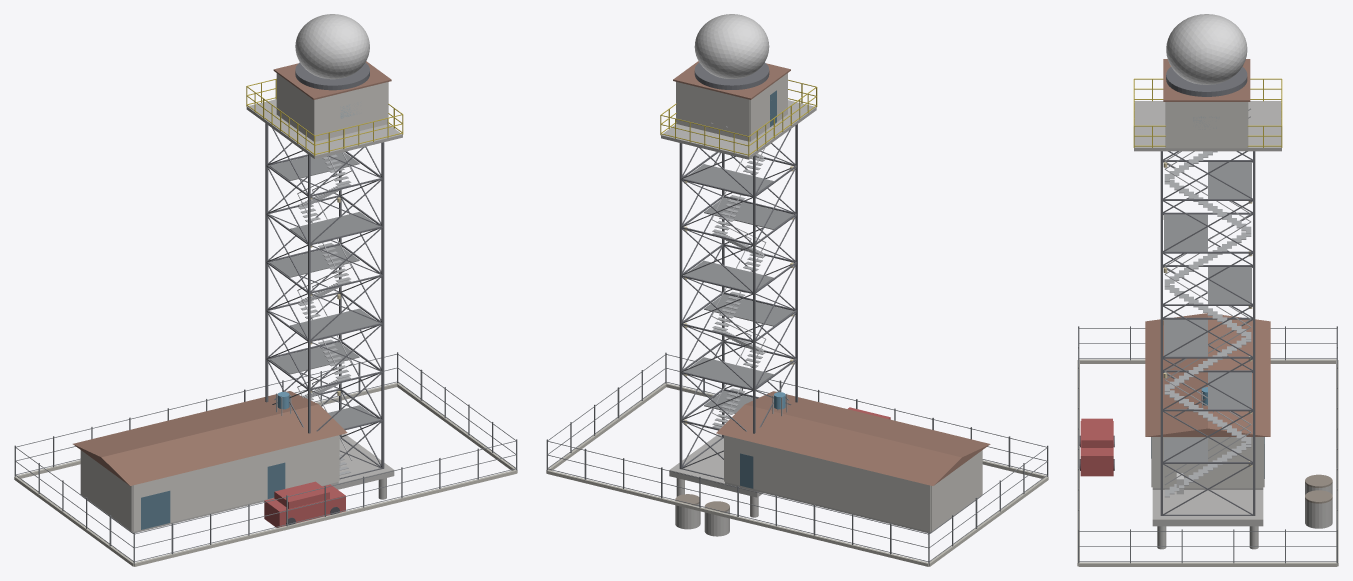
Rendered from torre_radar_v3.glb.
3 views of the same model, side by side, from view 1: azimuth 30°, elevation 25°; view 2: azimuth 150°, elevation 25°; view 3: azimuth 270°, elevation 25° (orthographic). The views are drawn at different scales.
Visible parts, largest first — view 1: 08_edif_terrea__edif_telhado_2aguas, 08_edif_terrea__edif_parede_y-1, 06_radome__radome, 05_plataforma__cabine_parede_y-1, 05_plataforma__plataforma_laje_6x8, 08_edif_terrea__edif_parede_x-1, 09_mureta_gradil__mureta_sul, 01_fundacao__fundacao_bloco, 05_plataforma__cabine_parede_x-1, 11_carro__carro_corpo, 03_patamares__patamar_2, 03_patamares__patamar_4 (+14 smaller); view 2: 08_edif_terrea__edif_telhado_2aguas, 08_edif_terrea__edif_parede_y+1, 06_radome__radome, 05_plataforma__cabine_parede_y+1, 05_plataforma__plataforma_laje_6x8, 08_edif_terrea__edif_parede_x-1, 01_fundacao__fundacao_bloco, 09_mureta_gradil__mureta_norte, 05_plataforma__cabine_parede_x-1, 03_patamares__patamar_3, 03_patamares__patamar_5, 03_patamares__patamar_1 (+9 smaller); view 3: 08_edif_terrea__edif_telhado_2aguas, 06_radome__radome, 05_plataforma__cabine_parede_x+1, 01_fundacao__fundacao_bloco, 05_plataforma__plataforma_laje_6x8, 08_edif_terrea__edif_parede_x+1, 03_patamares__patamar_3, 03_patamares__patamar_2, 03_patamares__patamar_1, 03_patamares__patamar_4, 03_patamares__patamar_5, 09_mureta_gradil__mureta_leste (+11 smaller).
Part boxes in pixels (x1,y1,x2,y2): 08_edif_terrea__edif_telhado_2aguas: [73, 391, 347, 485]; 08_edif_terrea__edif_parede_y-1: [132, 435, 338, 531]; 06_radome__radome: [295, 14, 369, 79]; 05_plataforma__cabine_parede_y-1: [314, 82, 388, 141]; 05_plataforma__plataforma_laje_6x8: [246, 99, 402, 158]; 08_edif_terrea__edif_parede_x-1: [80, 450, 132, 531]; 09_mureta_gradil__mureta_sul: [134, 469, 517, 566]; 01_fundacao__fundacao_bloco: [332, 434, 394, 489]; 05_plataforma__cabine_parede_x-1: [276, 73, 314, 141]; 11_carro__carro_corpo: [264, 484, 345, 527]; 03_patamares__patamar_2: [290, 308, 379, 339]; 03_patamares__patamar_4: [290, 211, 379, 242]; 08_edif_terrea__edif_telhado_2aguas: [716, 391, 990, 485]; 08_edif_terrea__edif_parede_y+1: [724, 435, 930, 531]; 06_radome__radome: [694, 14, 769, 78]; 05_plataforma__cabine_parede_y+1: [676, 82, 749, 141]; 05_plataforma__plataforma_laje_6x8: [661, 100, 816, 159]; 08_edif_terrea__edif_parede_x-1: [930, 450, 982, 531]; 01_fundacao__fundacao_bloco: [669, 434, 763, 497]; 09_mureta_gradil__mureta_norte: [546, 470, 928, 566]; 05_plataforma__cabine_parede_x-1: [750, 73, 787, 141]; 03_patamares__patamar_3: [684, 260, 773, 291]; 03_patamares__patamar_5: [684, 164, 773, 194]; 03_patamares__patamar_1: [684, 357, 773, 388]; 08_edif_terrea__edif_telhado_2aguas: [1145, 313, 1270, 436]; 06_radome__radome: [1166, 14, 1247, 84]; 05_plataforma__cabine_parede_x+1: [1166, 102, 1247, 148]; 01_fundacao__fundacao_bloco: [1152, 490, 1263, 526]; 05_plataforma__plataforma_laje_6x8: [1134, 101, 1281, 151]; 08_edif_terrea__edif_parede_x+1: [1152, 437, 1263, 487]; 03_patamares__patamar_3: [1208, 267, 1251, 304]; 03_patamares__patamar_2: [1164, 319, 1207, 356]; 03_patamares__patamar_1: [1208, 372, 1251, 409]; 03_patamares__patamar_4: [1164, 214, 1207, 251]; 03_patamares__patamar_5: [1208, 162, 1251, 198]; 09_mureta_gradil__mureta_leste: [1078, 562, 1337, 566].
Size of the model in its own units: 26.15 by 30.67 by 14.15.
